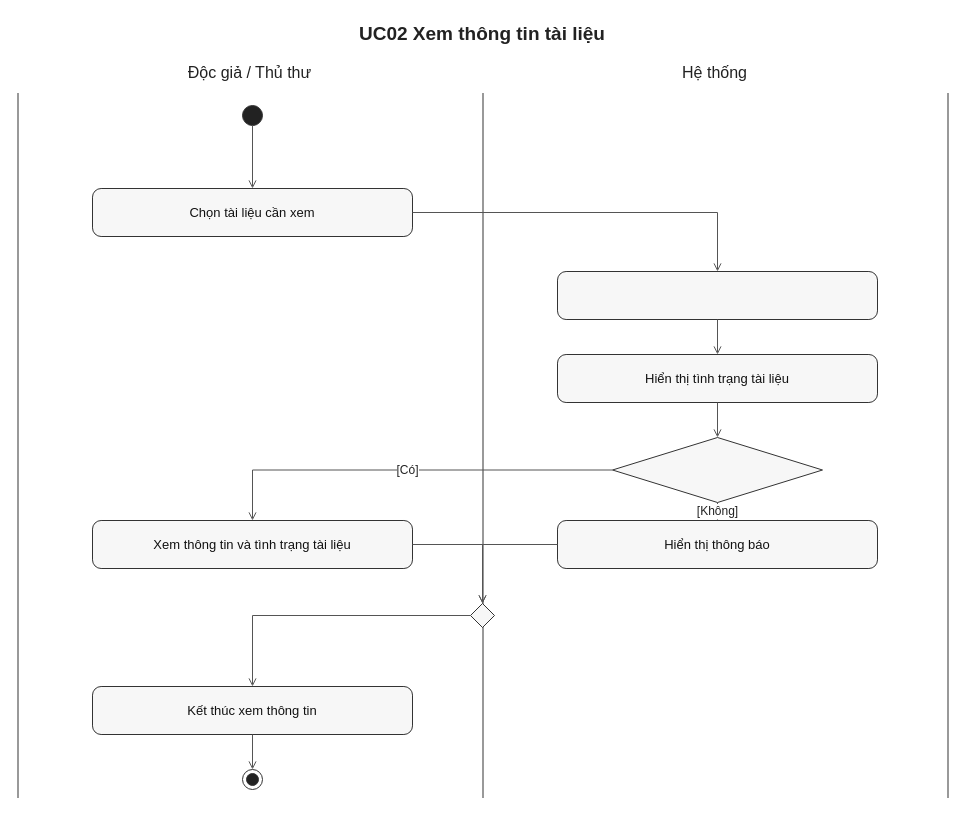
The diagram is 966 pixels wide and 815 high, and some of its shapes have lost their labels. Here are the shapes that lost their labels. From the top down, the box of each, then its label:
(556, 270, 878, 320): Hiển thị thông tin tài liệu
(612, 436, 822, 502): Thông tin tài liệu có đầy đủ?
